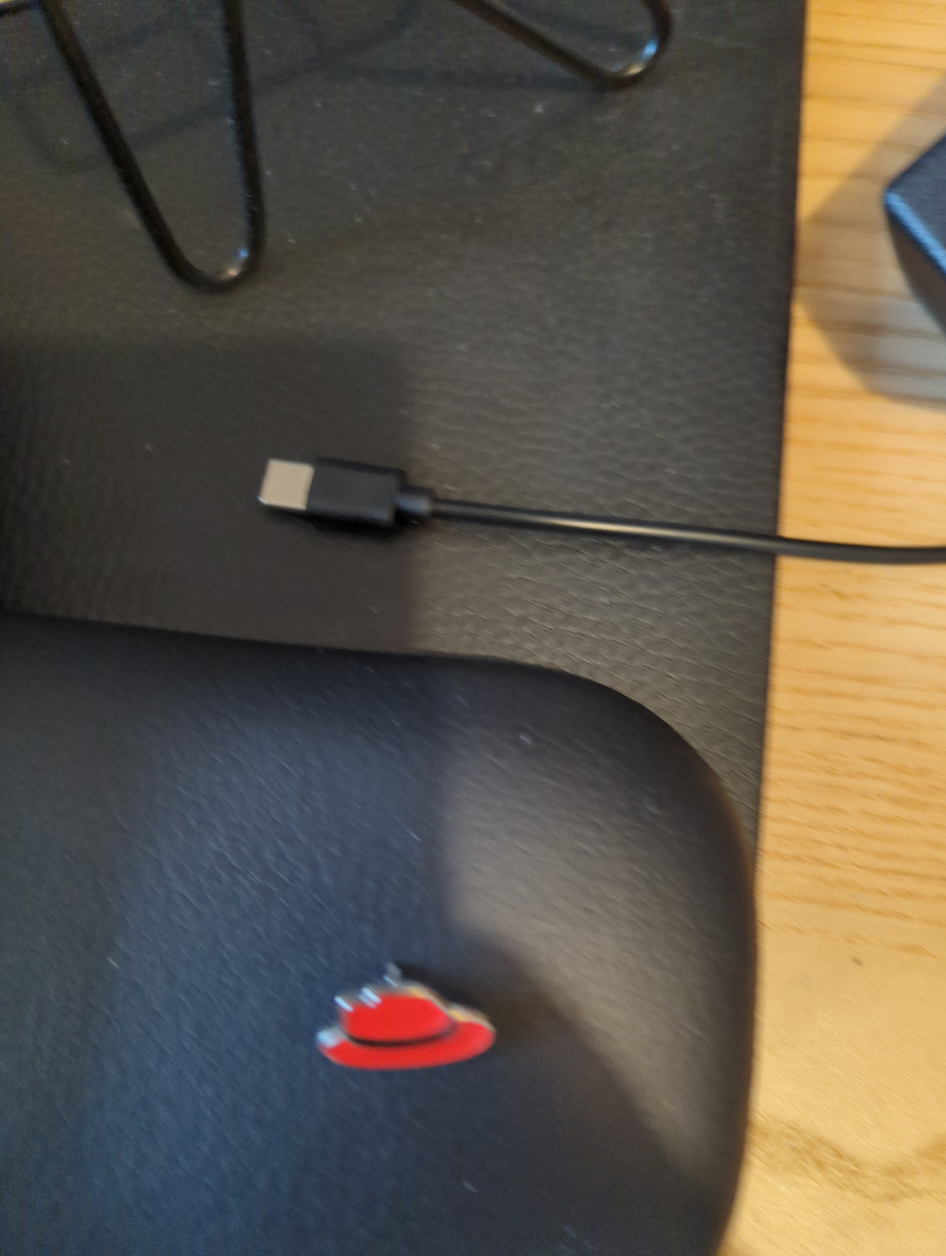Red-Hat: (253, 909, 628, 1157)
